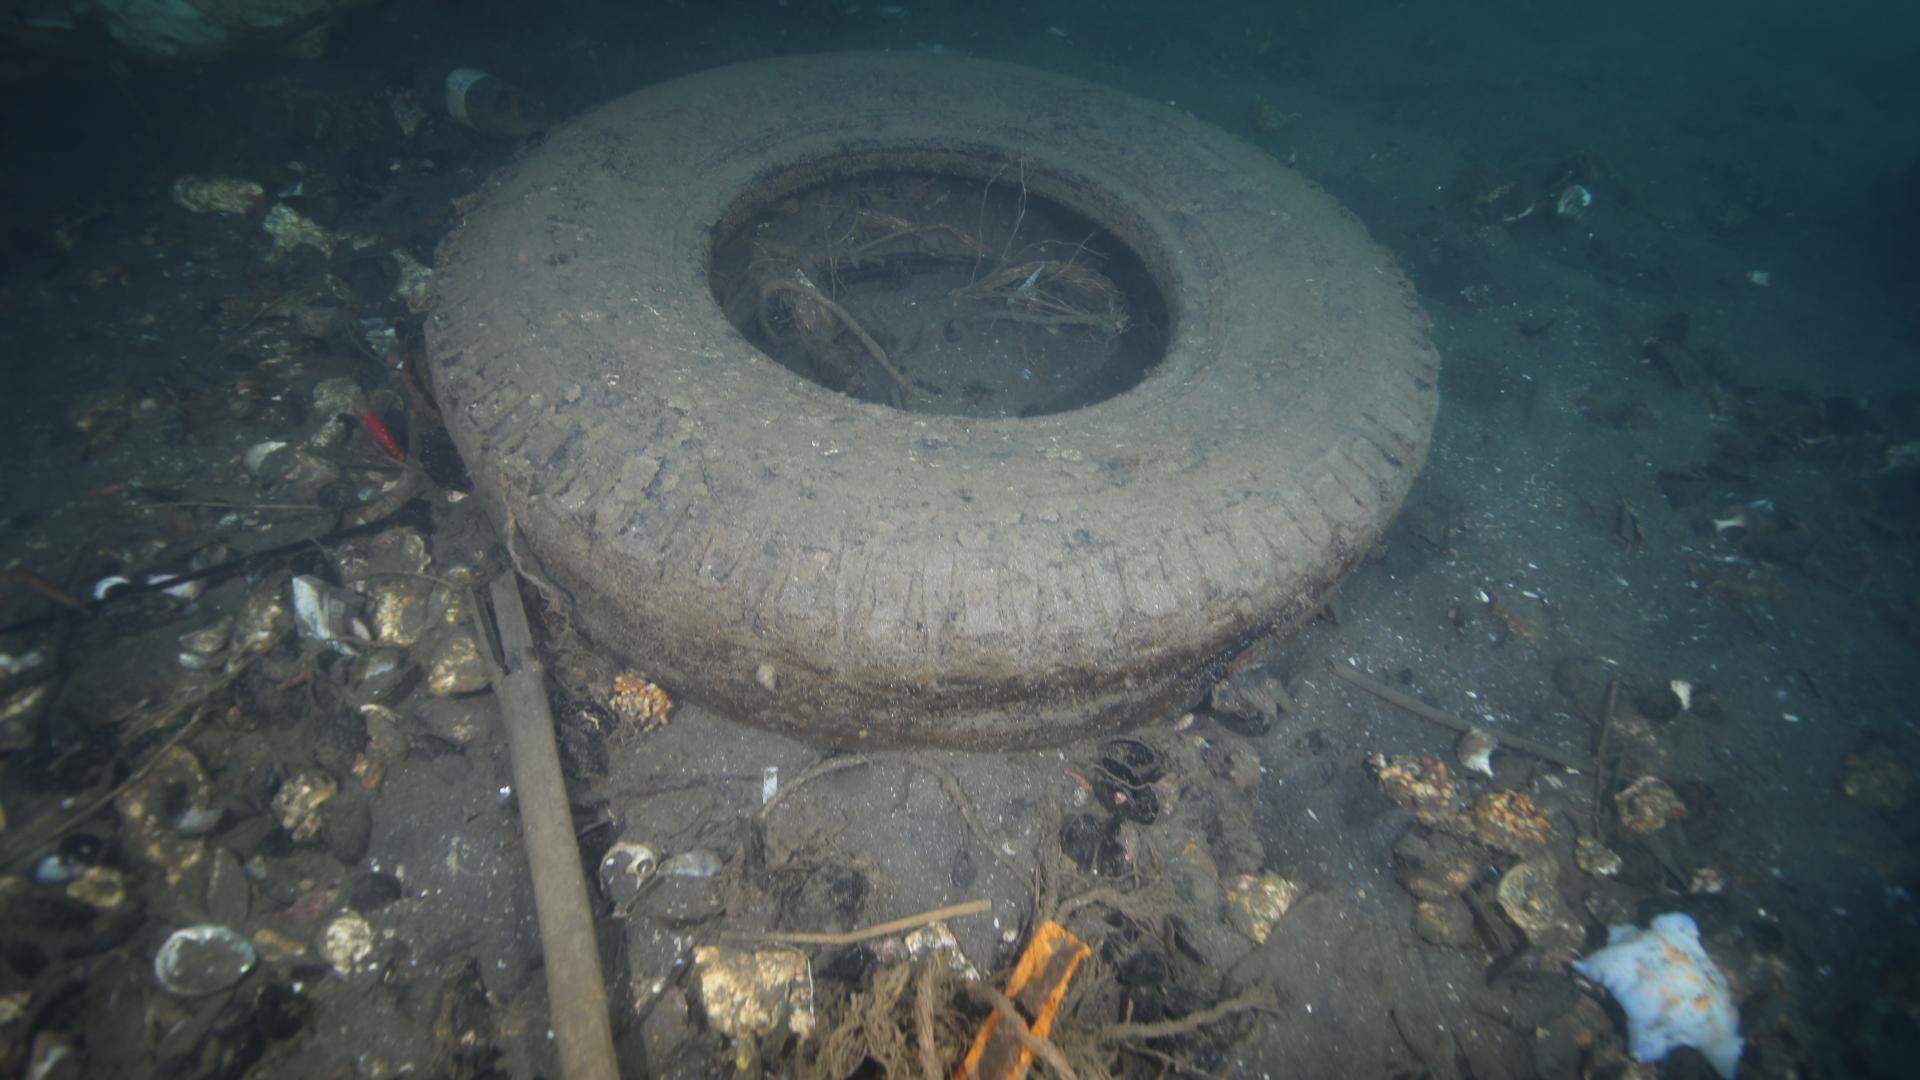tire: (415, 44, 1443, 752)
